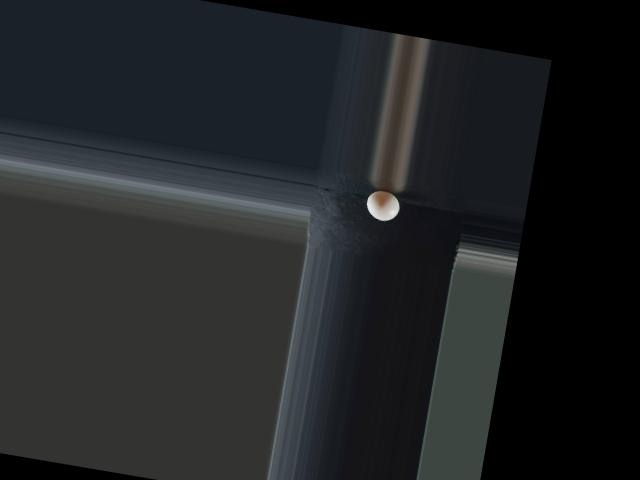egg: (363, 188, 401, 223)
